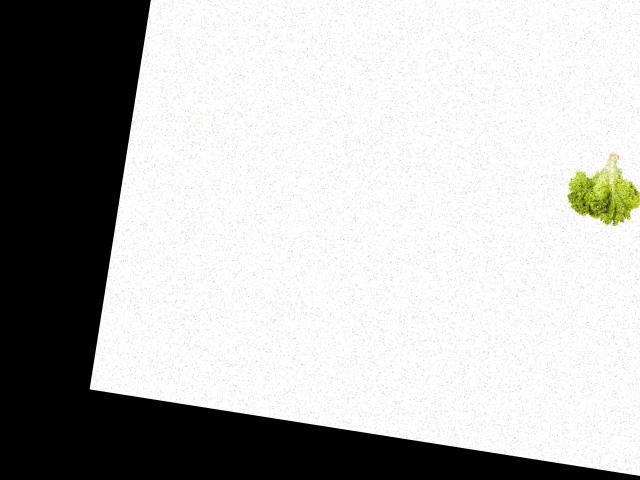lettuce: (561, 146, 640, 231)
